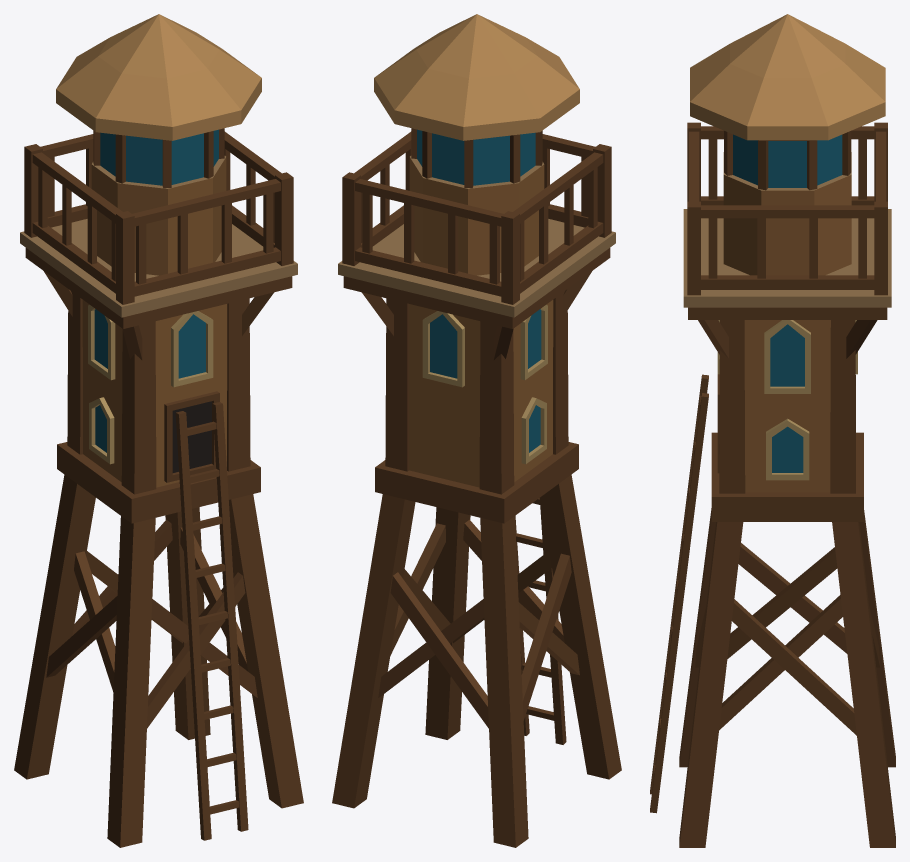
The model's file is lookout-watchtower-f1a5ce.glb.
3 renders of one model, left to right at view 1: azimuth 30°, elevation 25°; view 2: azimuth 150°, elevation 25°; view 3: azimuth 270°, elevation 25°, orthographic. The views are drawn at different scales.
Parts seen in each view (by area): view 1: tower-shell, ladder-body; view 2: tower-shell, ladder-body; view 3: tower-shell, ladder-body.
Boxes of the visible parts, x1,y1,x2,y2 form: tower-shell: [14, 14, 303, 847]; ladder-body: [175, 402, 248, 840]; tower-shell: [332, 14, 621, 847]; ladder-body: [515, 498, 566, 744]; tower-shell: [679, 14, 895, 847]; ladder-body: [650, 374, 708, 813].
Bounding box in the file's own units: 2.5 × 10.04 × 2.84.
